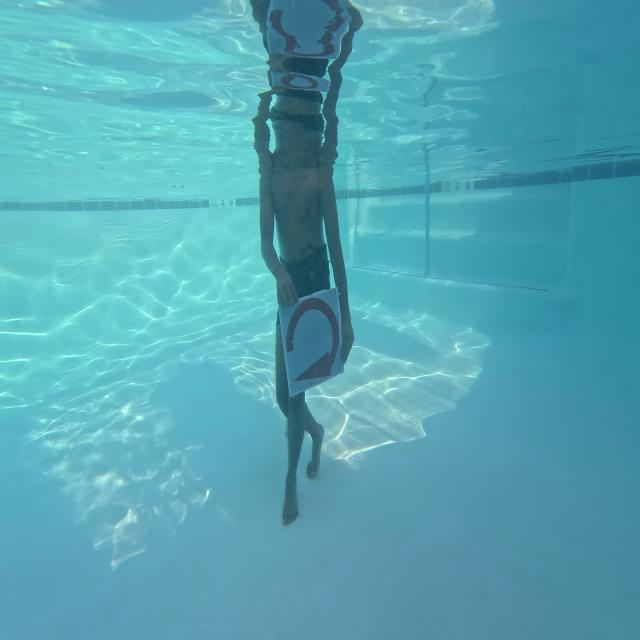red_side: (280, 292, 345, 386)
